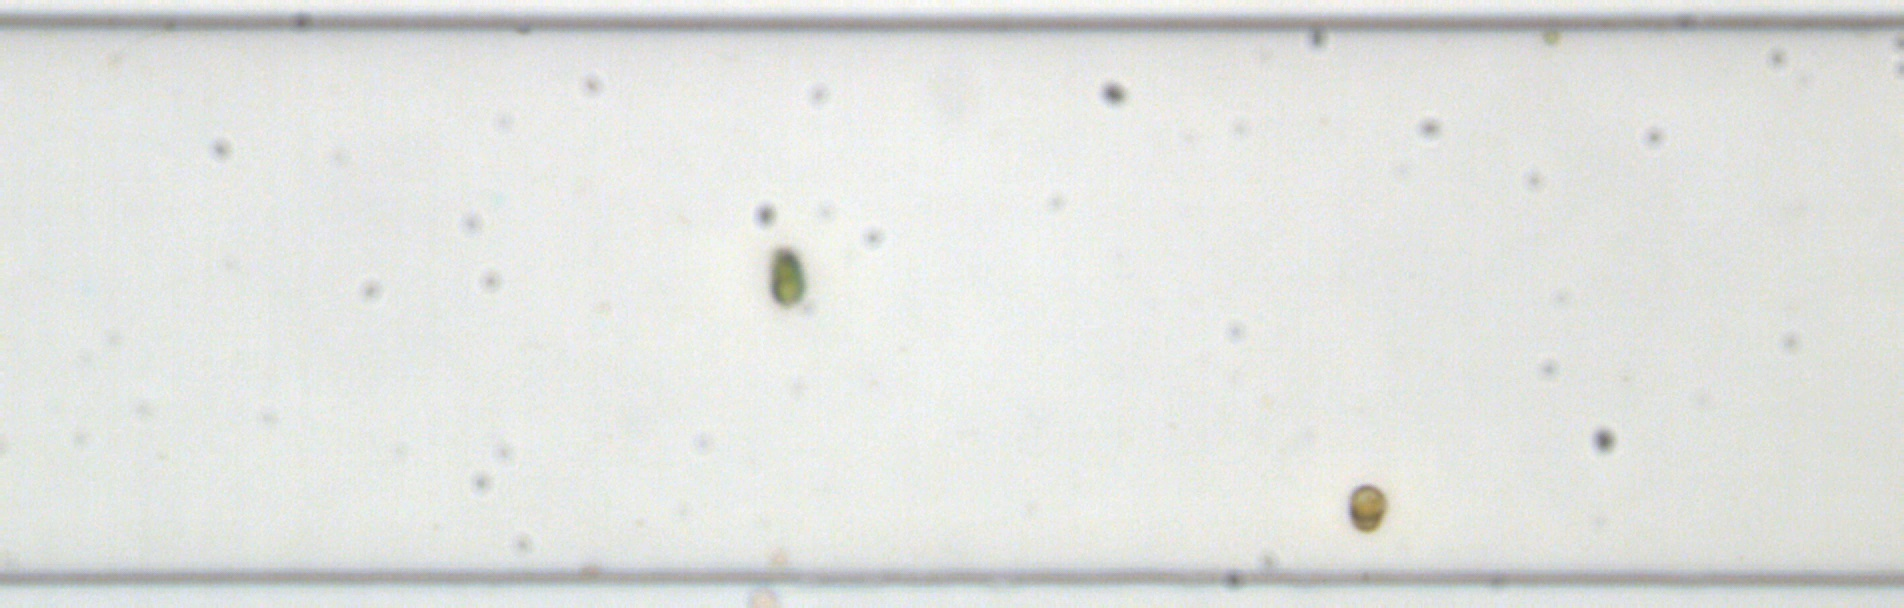Chlorella: (1541, 25, 1562, 45)
Effrenium: (1345, 481, 1388, 534)
Platymonas: (767, 245, 804, 308)
